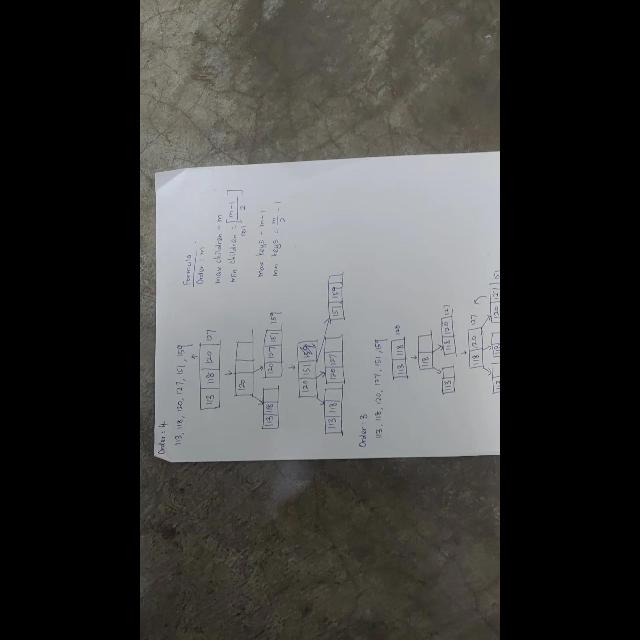papel: (160, 154, 500, 453)
